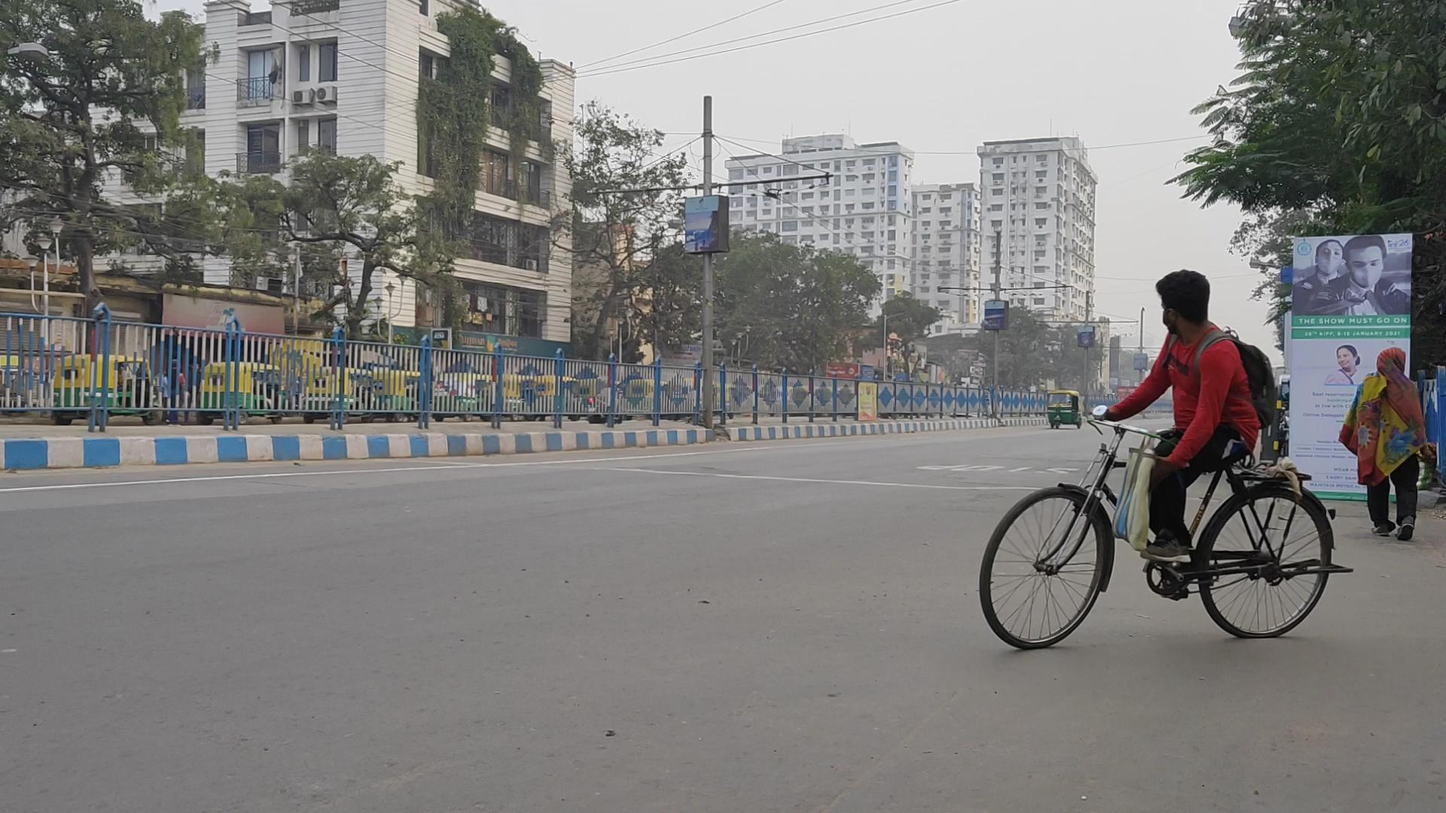Auto: (1042, 388, 1083, 431)
bike: (980, 269, 1355, 650)
